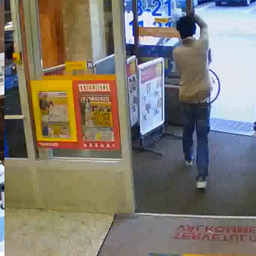person: (172, 14, 213, 190)
